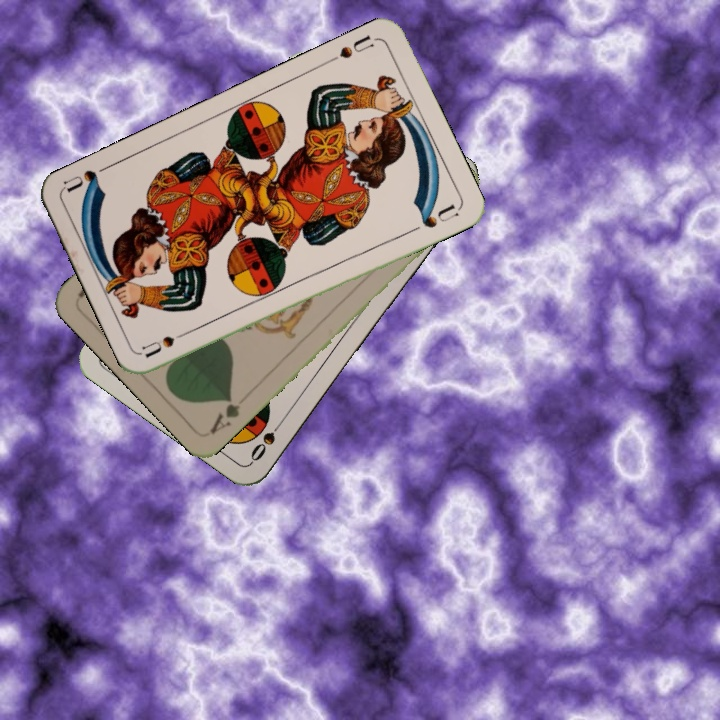GA: (205, 392, 243, 437)
SO: (246, 413, 288, 464)
SU: (139, 325, 197, 361), (335, 30, 379, 61)
